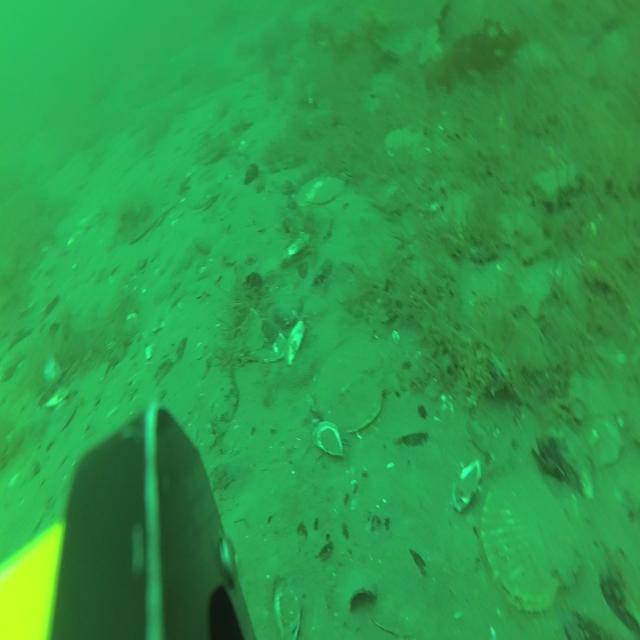scallop: (484, 469, 580, 613), (316, 340, 400, 433), (188, 181, 221, 215), (386, 125, 419, 159), (316, 174, 346, 204), (296, 174, 327, 202)
